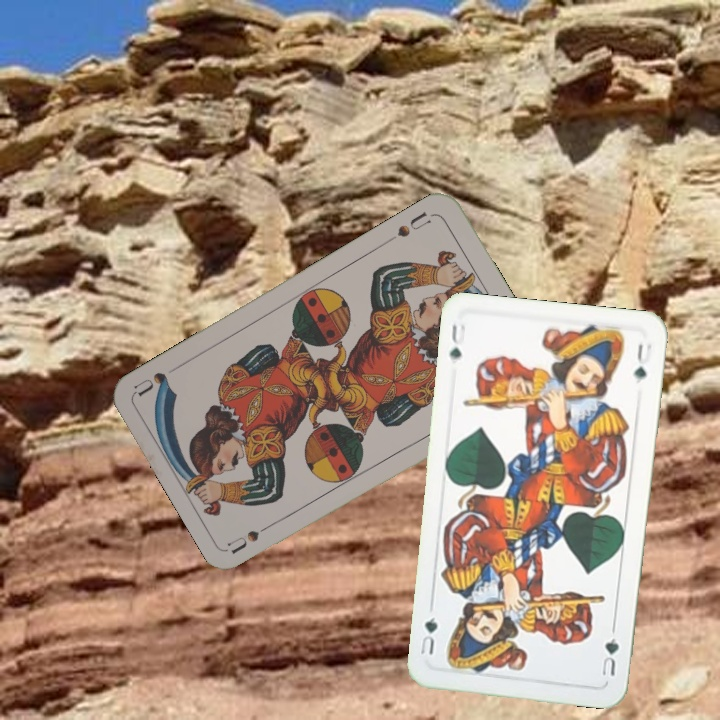GU: (598, 634, 621, 679), (446, 319, 468, 363)
SU: (224, 516, 281, 556), (384, 207, 434, 246)
